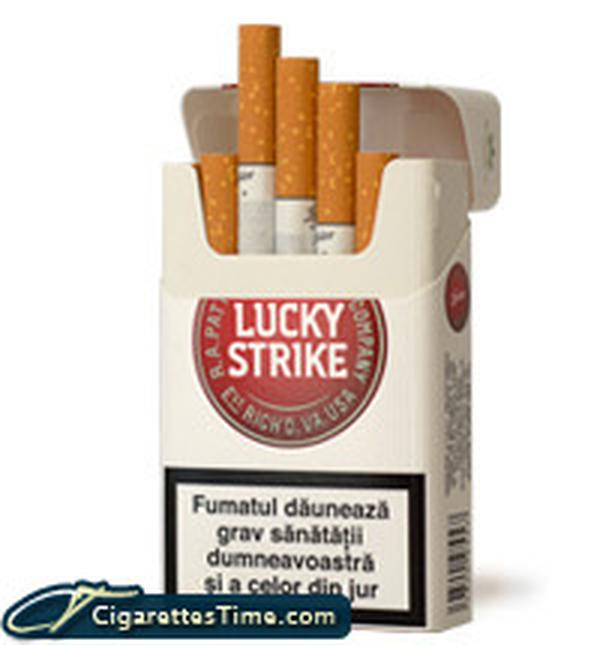lucky_strike_red: (161, 179, 431, 625)
